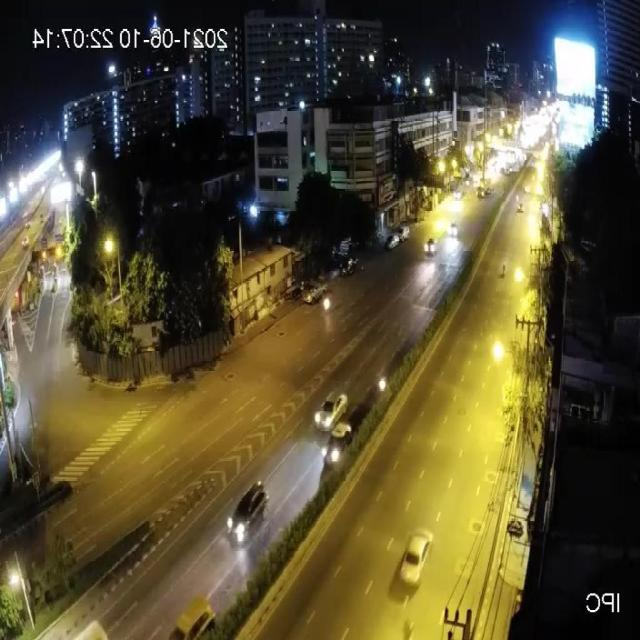Car: (225, 477, 269, 547), (397, 526, 433, 594), (168, 599, 216, 640), (310, 386, 350, 429), (321, 422, 353, 468), (424, 236, 437, 256), (448, 222, 458, 238)
